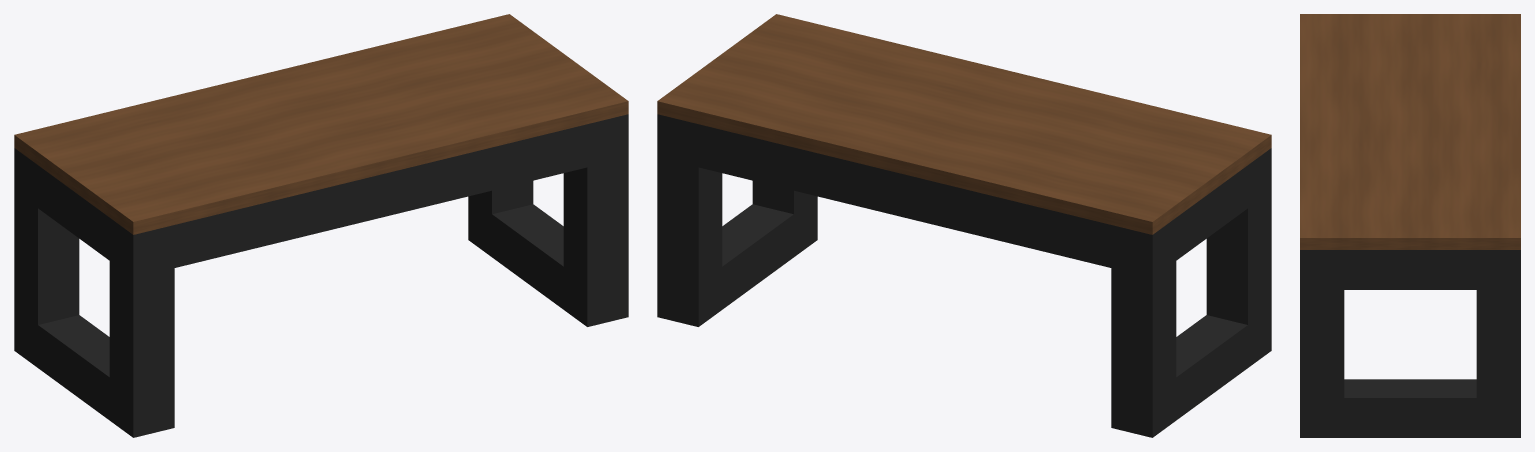
The model's file is mesa-living-nord-nogal-negro-10cm.glb.
The picture shows the model from 3 angles, left to right: view 1: azimuth 30°, elevation 25°; view 2: azimuth 150°, elevation 25°; view 3: azimuth 270°, elevation 25°; orthographic projection. The views are drawn at different scales.
Visible parts, largest first — view 1: Tapa de madera maciza 120 x 50 cm, Pata recta de hierro 10 x 10 cm (×4), Larguero longitudinal superior recto, Travesaño inferior recto (×2), Travesaño superior recto; view 2: Tapa de madera maciza 120 x 50 cm, Pata recta de hierro 10 x 10 cm (×4), Larguero longitudinal superior recto, Travesaño inferior recto (×2), Travesaño superior recto; view 3: Tapa de madera maciza 120 x 50 cm, Pata recta de hierro 10 x 10 cm (×2), Travesaño inferior recto, Travesaño superior recto.
Boxes of the visible parts, box(x1,y1,x2,y2) form: Tapa de madera maciza 120 x 50 cm: box(14, 14, 628, 234); Pata recta de hierro 10 x 10 cm (×4): box(14, 114, 628, 437); Larguero longitudinal superior recto: box(174, 124, 587, 267); Travesaño inferior recto (×2): box(26, 204, 575, 428); Travesaño superior recto: box(26, 158, 121, 269); Tapa de madera maciza 120 x 50 cm: box(657, 14, 1271, 234); Pata recta de hierro 10 x 10 cm (×4): box(657, 114, 1271, 437); Larguero longitudinal superior recto: box(698, 124, 1111, 267); Travesaño inferior recto (×2): box(710, 204, 1247, 428); Travesaño superior recto: box(1164, 165, 1247, 268); Tapa de madera maciza 120 x 50 cm: box(1300, 14, 1520, 249); Pata recta de hierro 10 x 10 cm (×2): box(1300, 250, 1520, 437); Travesaño inferior recto: box(1323, 379, 1497, 437); Travesaño superior recto: box(1322, 250, 1498, 289).
Size of the model in its own units: 1.2 by 0.5 by 0.5.
Materials: 2 (1 with a texture image).
